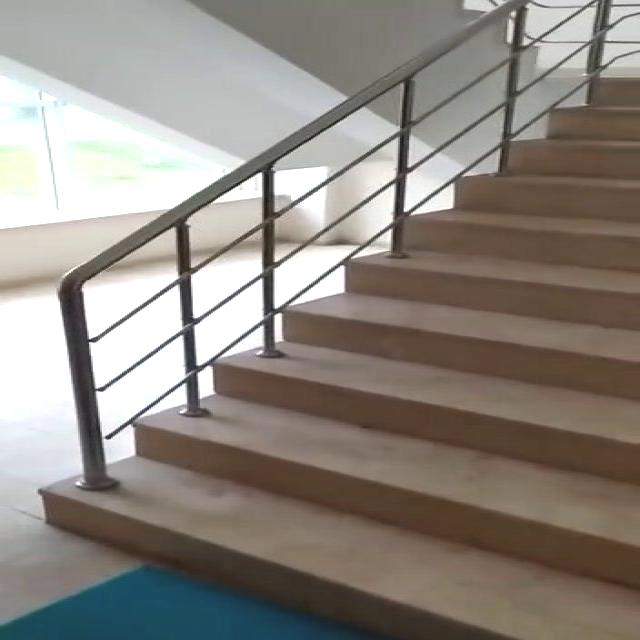stair: (30, 67, 640, 640)
